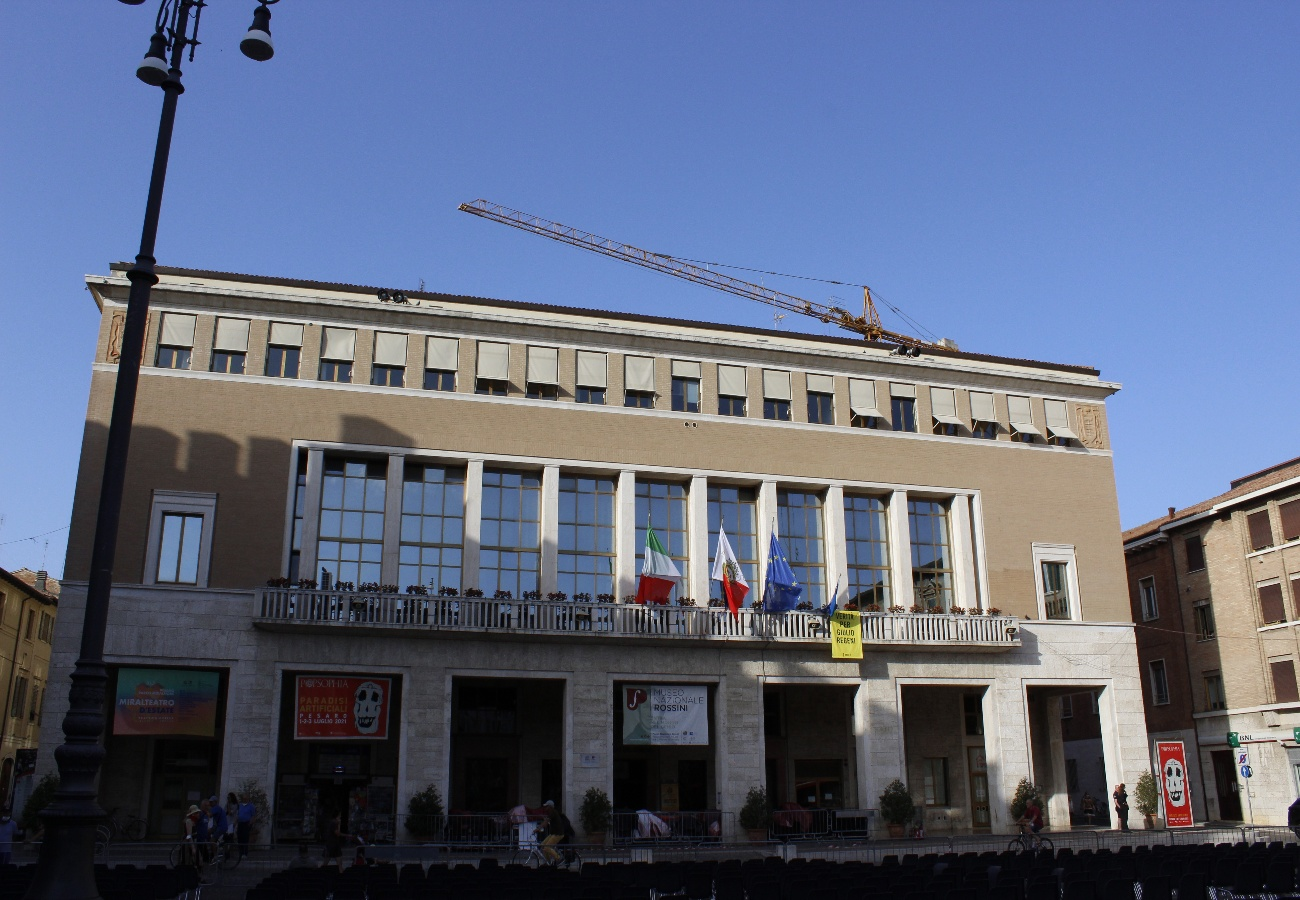Palazzo Comunale: (65, 257, 1156, 862)
